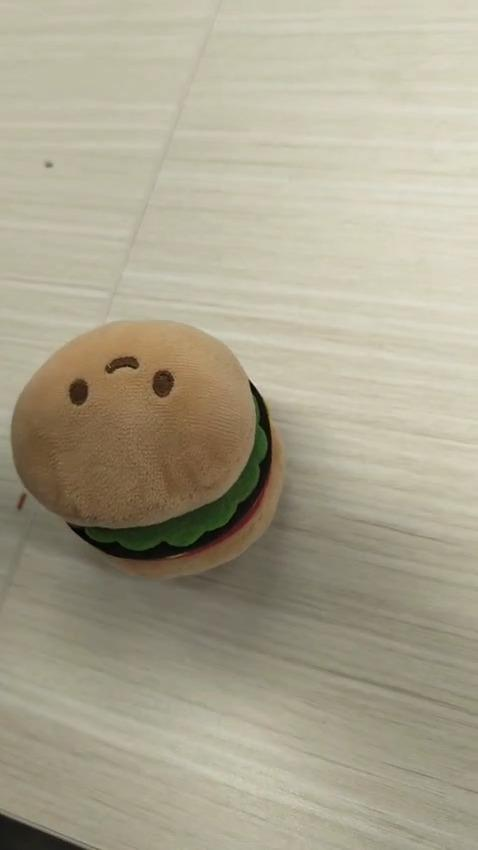hamburger: (9, 317, 285, 581)
